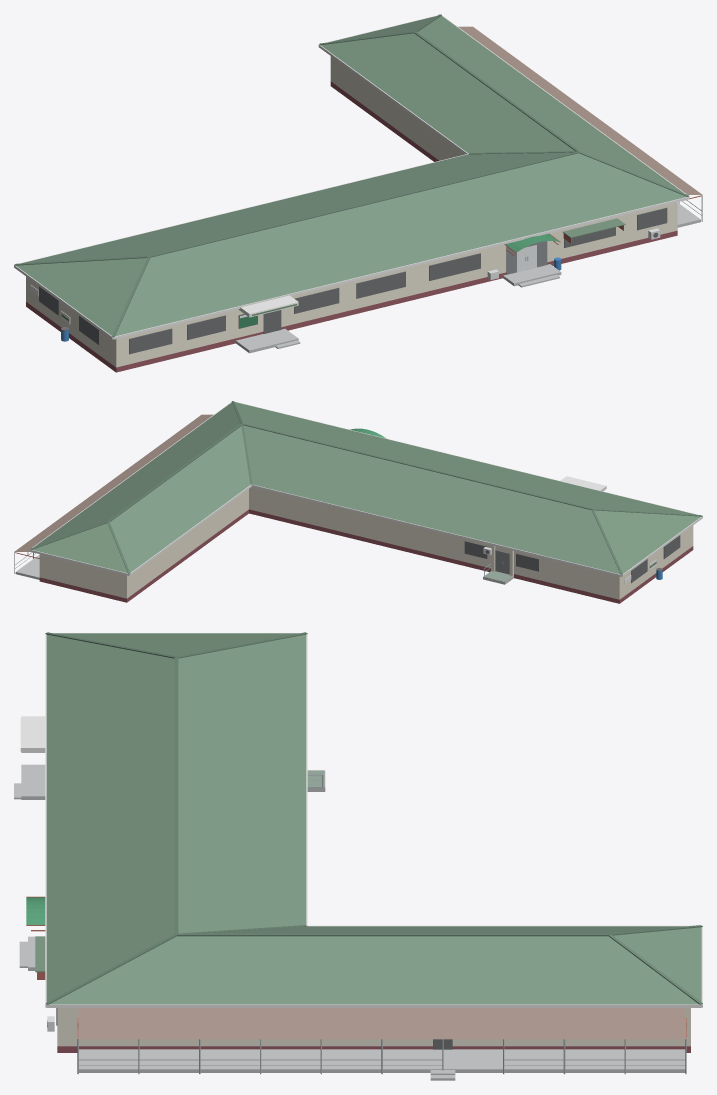
The model's file is lares_building.glb.
3 views of the same model, one above another, from view 1: azimuth 30°, elevation 25°; view 2: azimuth 150°, elevation 25°; view 3: azimuth 270°, elevation 25° (orthographic). The views are drawn at different scales.
Visible parts, largest first — view 1: Mesh_LARES_RoofGreen, Mesh_LARES_WallYellow, Mesh_LARES_FrameDark, Mesh_LARES_WallWhite, Mesh_LARES_WallMaroon, Mesh_LARES_RoofRidge, LARES_LowerRoof, Mesh_LARES_Concrete, Mesh_LARES_FrameAlum; view 2: Mesh_LARES_RoofGreen, Mesh_LARES_WallYellow, Mesh_LARES_WallWhite, Mesh_LARES_WallMaroon, Mesh_LARES_RoofRidge, LARES_LowerRoof, Mesh_LARES_FrameDark, Mesh_LARES_Concrete; view 3: Mesh_LARES_RoofGreen, LARES_LowerRoof, Mesh_LARES_Concrete, Mesh_LARES_WallWhite, Mesh_LARES_WallYellow, Mesh_LARES_RoofRidge, Mesh_LARES_WallMaroon, Mesh_LARES_PipeGray.
Part boxes in pixels (x1,y1,x2,y2): Mesh_LARES_RoofGreen: (16,15,686,336); Mesh_LARES_WallYellow: (26,56,677,367); Mesh_LARES_FrameDark: (39,207,667,354); Mesh_LARES_WallWhite: (14,15,689,339); Mesh_LARES_WallMaroon: (26,81,677,372); Mesh_LARES_RoofRidge: (14,14,689,336); LARES_LowerRoof: (458,26,702,194); Mesh_LARES_Concrete: (236,203,700,353); Mesh_LARES_FrameAlum: (506,241,547,274); Mesh_LARES_RoofGreen: (32,402,700,574); Mesh_LARES_WallYellow: (39,487,693,599); Mesh_LARES_WallWhite: (30,401,702,576); Mesh_LARES_WallMaroon: (39,509,693,603); Mesh_LARES_RoofRidge: (30,401,702,574); LARES_LowerRoof: (14,414,213,551); Mesh_LARES_FrameDark: (464,535,680,583); Mesh_LARES_Concrete: (15,554,513,584); Mesh_LARES_RoofGreen: (35,633,701,1004); LARES_LowerRoof: (78,1008,685,1039); Mesh_LARES_Concrete: (14,764,685,1080); Mesh_LARES_WallWhite: (21,633,702,1007); Mesh_LARES_WallYellow: (57,1008,690,1046); Mesh_LARES_RoofRidge: (45,632,702,1004); Mesh_LARES_WallMaroon: (57,1046,690,1052); Mesh_LARES_PipeGray: (77,774,686,1074).
Size of the model in its own units: 57.17 by 5.69 by 42.16.
